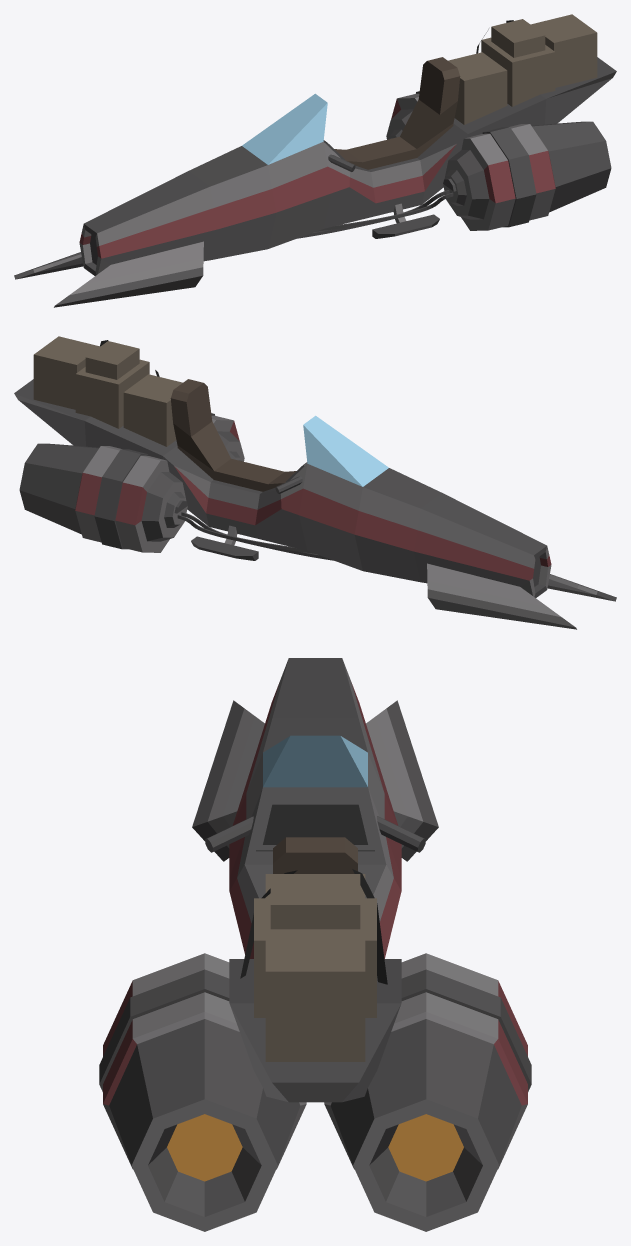
Rendered from speeder1.glb.
The picture shows the model from 3 angles, top to bottom: view 1: azimuth 30°, elevation 25°; view 2: azimuth 150°, elevation 25°; view 3: azimuth 270°, elevation 25°; orthographic projection. The views are drawn at different scales.
Visible parts, largest first — view 1: Cube.006, Cube.005; view 2: Cube.006, Cube.005; view 3: Cube.006, Cube.005.
Part boxes in pixels (x1=…): Cube.006: x1=14, y1=57, x2=616, y2=307; Cube.005: x1=448, y1=14, x2=597, y2=124; Cube.006: x1=14, y1=379, x2=616, y2=629; Cube.005: x1=33, y1=336, x2=182, y2=446; Cube.006: x1=99, y1=658, x2=531, y2=1231; Cube.005: x1=240, y1=869, x2=387, y2=1061.
Bounding box in the file's own units: 3.04 × 0.8363 × 0.9966.
